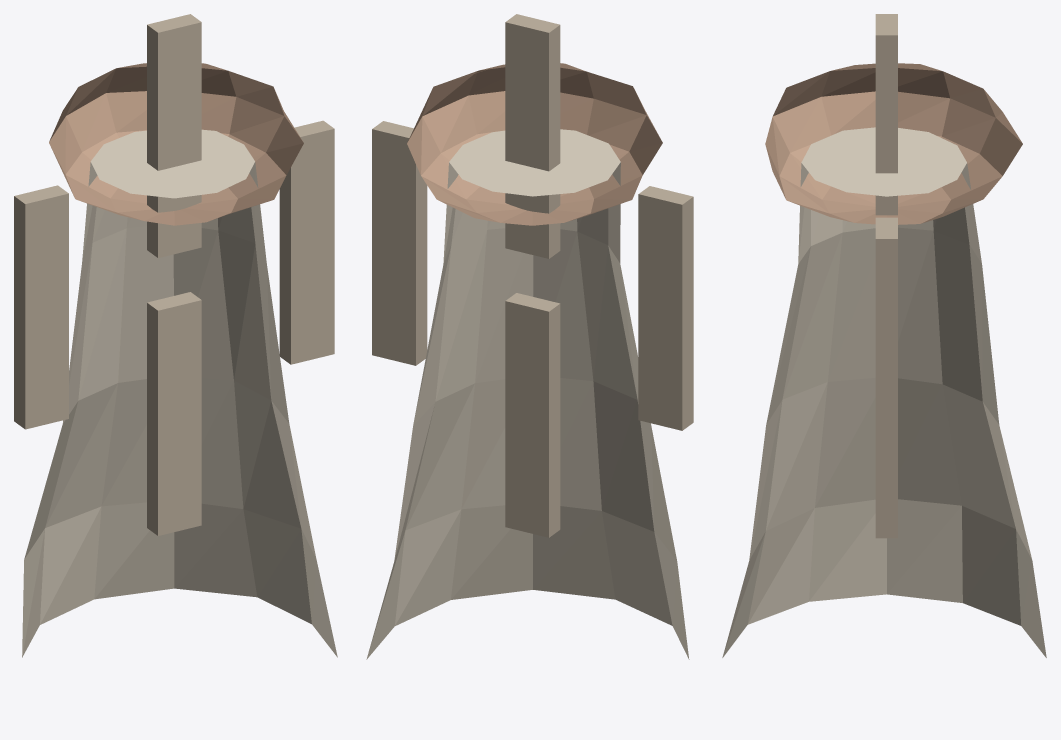
Rendered from windmill_1000_3.glb.
3 views of the same model, side by side, from view 1: azimuth 30°, elevation 25°; view 2: azimuth 150°, elevation 25°; view 3: azimuth 270°, elevation 25° (orthographic).
Parts seen in each view (by area): view 1: windmill_1000_3_0, windmill_1000_3_1, windmill_1000_3_4, windmill_1000_3_5, windmill_1000_3_2, windmill_1000_3_3; view 2: windmill_1000_3_0, windmill_1000_3_1, windmill_1000_3_4, windmill_1000_3_5, windmill_1000_3_2, windmill_1000_3_3; view 3: windmill_1000_3_0, windmill_1000_3_1, windmill_1000_3_2, windmill_1000_3_3, windmill_1000_3_5.
Part boxes in pixels (x1,y1,x2,y2): windmill_1000_3_0: (22,129,337,657); windmill_1000_3_1: (49,63,303,225); windmill_1000_3_4: (14,185,68,429); windmill_1000_3_5: (147,292,201,535); windmill_1000_3_2: (279,120,334,364); windmill_1000_3_3: (147,14,201,257); windmill_1000_3_0: (366,129,689,659); windmill_1000_3_1: (407,63,662,225); windmill_1000_3_4: (638,186,693,430); windmill_1000_3_5: (505,293,560,537); windmill_1000_3_2: (372,121,427,365); windmill_1000_3_3: (505,14,560,258); windmill_1000_3_0: (722,127,1046,657); windmill_1000_3_1: (765,63,1022,224); windmill_1000_3_2: (875,217,897,464); windmill_1000_3_3: (875,14,897,215); windmill_1000_3_5: (875,464,897,538).
Bounding box in the file's own units: 1.91 × 3.75 × 1.74.
